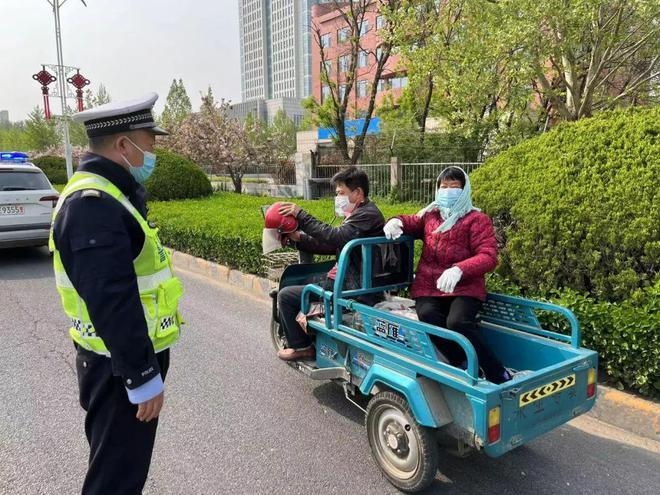driver: (285, 165, 386, 349)
overloading: (254, 165, 605, 490)
passenger: (400, 171, 518, 372)
